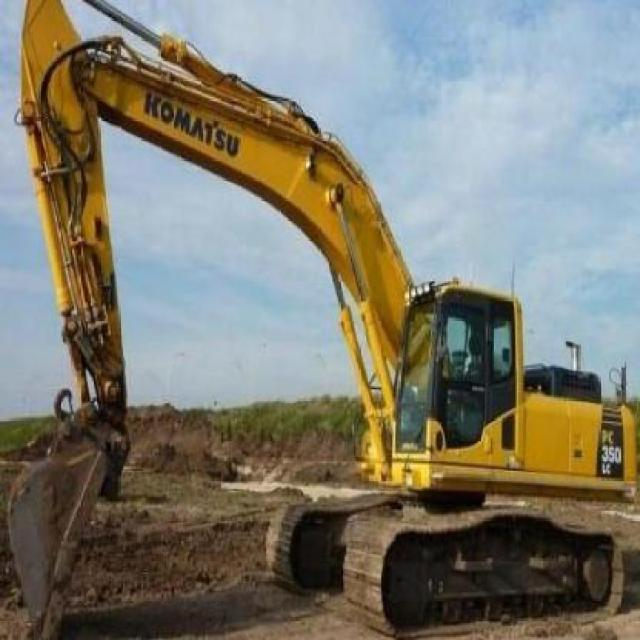excavator: (7, 0, 639, 637)
